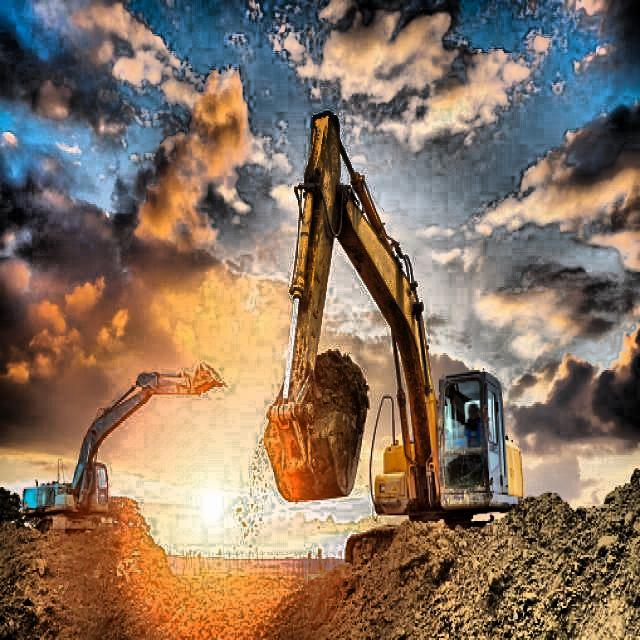excavator: (264, 109, 528, 566), (16, 361, 228, 531)
